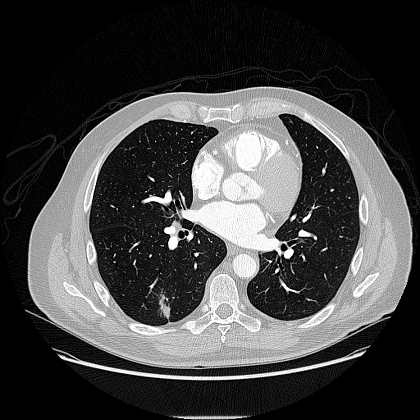nodule: (157, 299, 169, 311)
